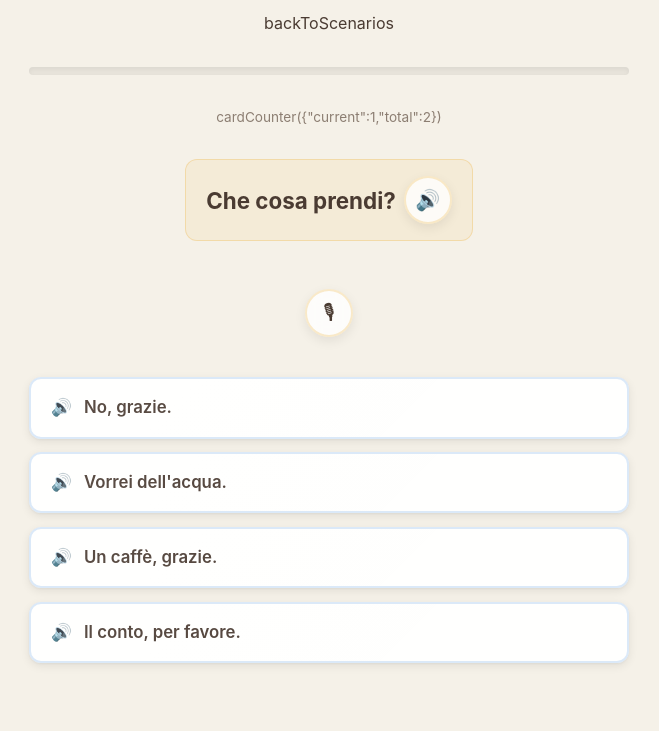
Scenario: QAStudySession › tapping correct choice shows correct feedback state
Step 1. Click the button "🔊 Un caffè, grazie." → (151,557), box [29,527,629,588]
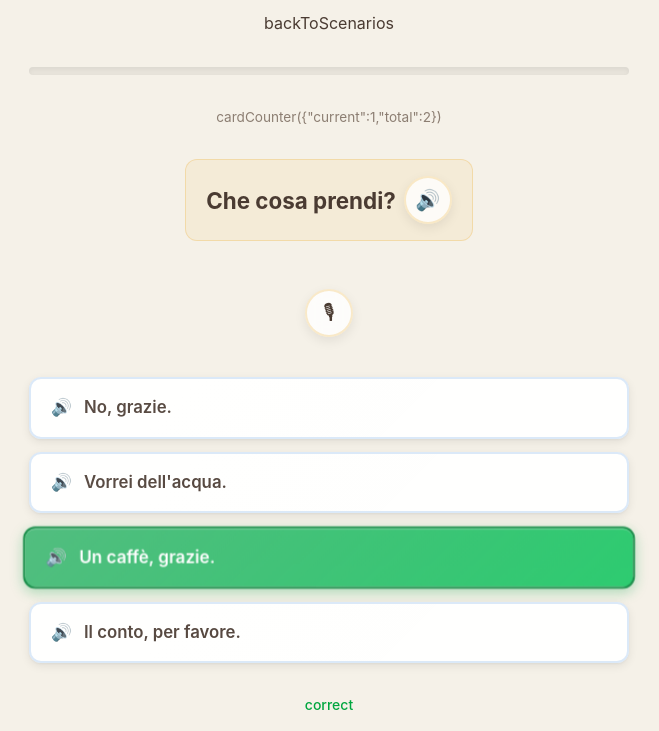
Check: the message "correct" is shown, box [305,695,353,715]
Check: the message reads "correct", box [305,696,353,713]
